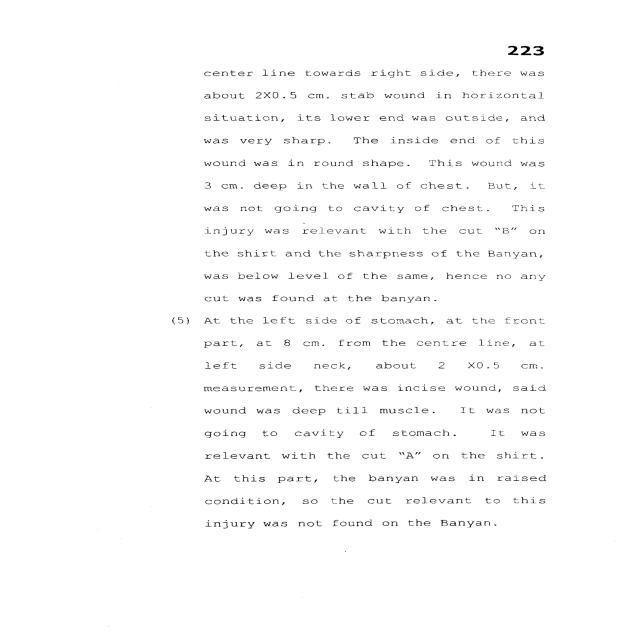page-number: (424, 0, 630, 61)
